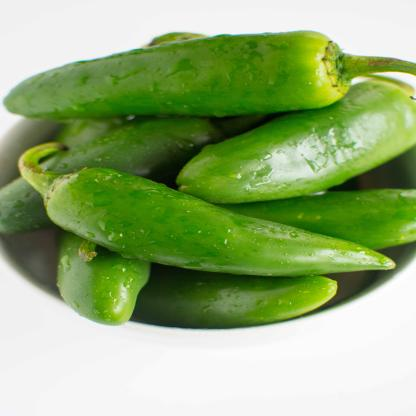--: (19, 134, 416, 285), (3, 27, 416, 122)
